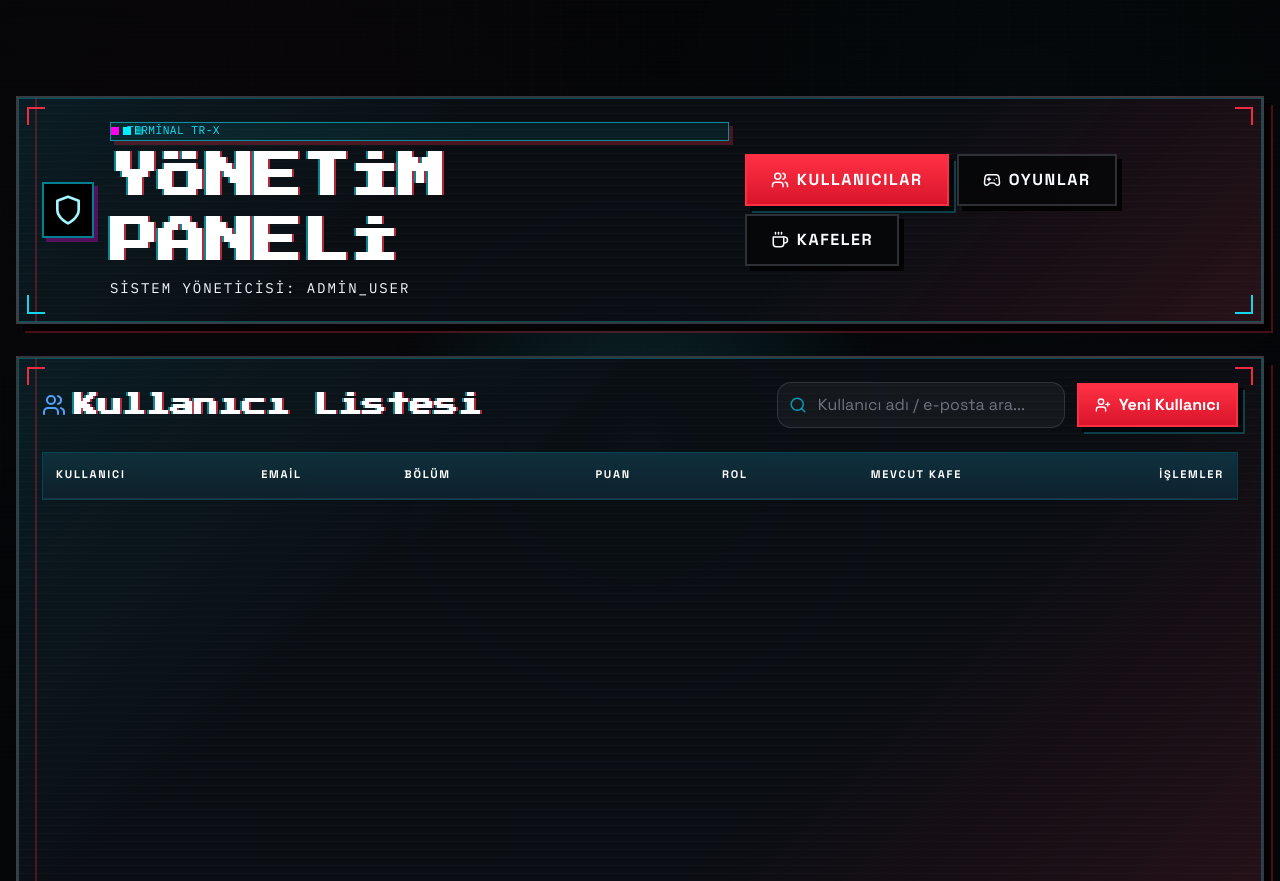
Test: AdminDashboard › shows cafe list with edit form in cafes tab
The image size is (1280, 881).
Click the button "Kafeler": (822, 240) [745,214,899,266]
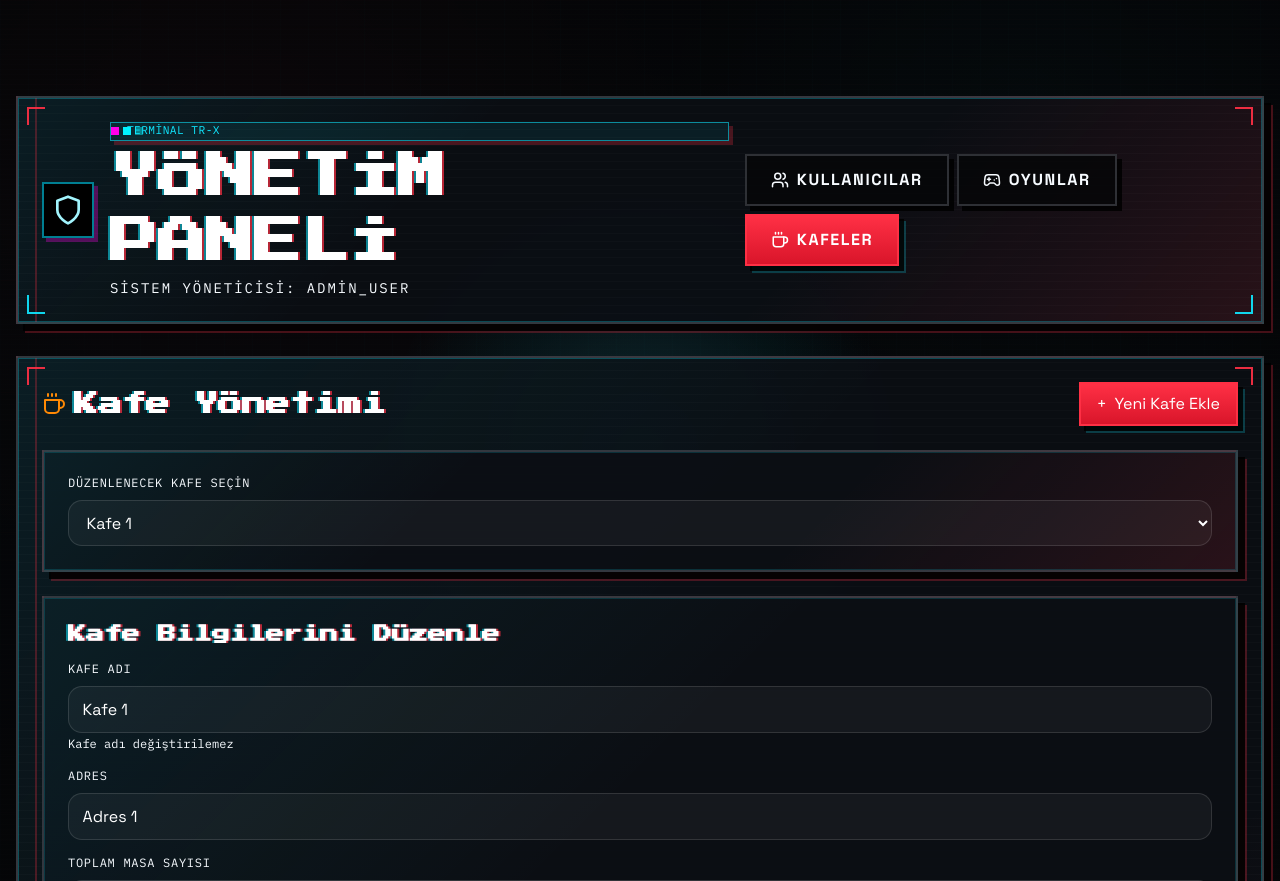
Expected: the heading "Kafe Bilgilerini Düzenle" is shown, [68,625,500,643]
